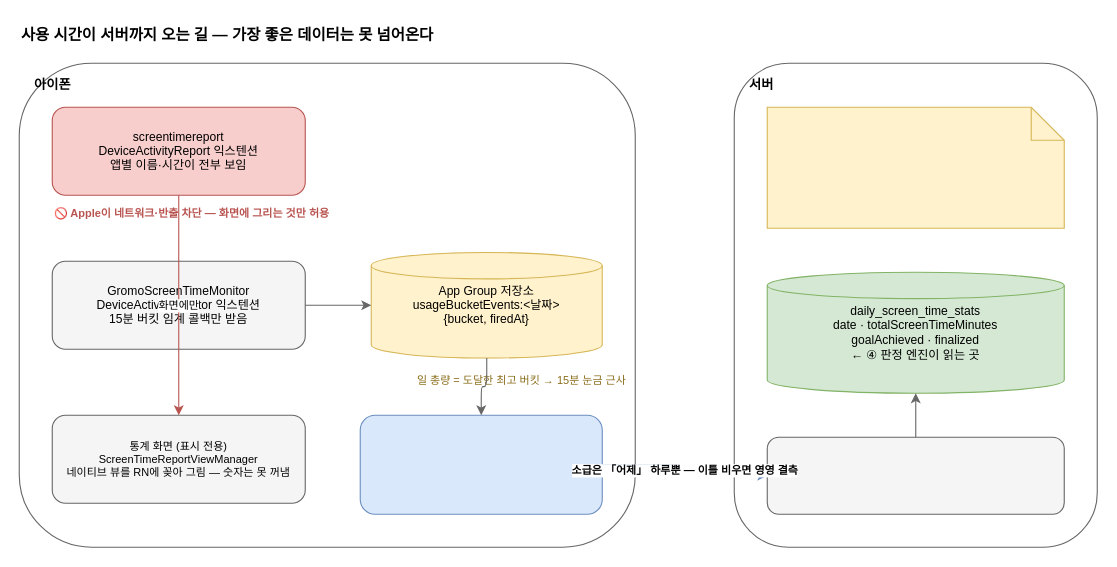
This 1117x567 diagram has some shape labels left out. Here are the shapes that lost their labels. From the top down, the centre of each, then its label:
(x=915, y=167): 서버가 끝내 모르는 것 · 어떤 앱을 썼는지 · 몇 시에 썼는지 · 측정 대상이 바뀌었는지
(x=480, y=464): RN 앱 (ScreenTimeSyncer) 버킷 → 일 총량 환산 앱 시작 + 포그라운드 복귀 때 업로드
(x=915, y=475): POST /screen-time ScreenTimeRequest — 필드 4개뿐 분 · 목표달성 · reportedAt · isFinal
